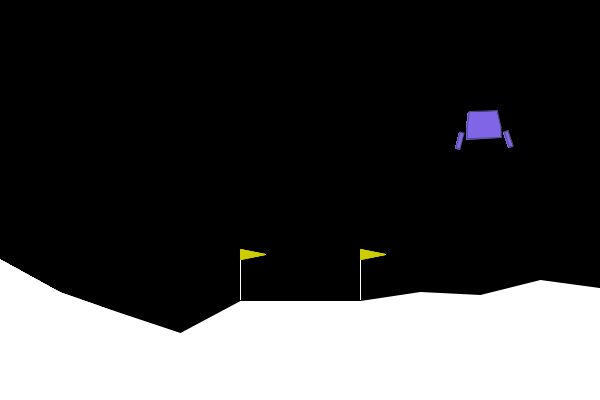lander: (453, 108, 514, 150)
